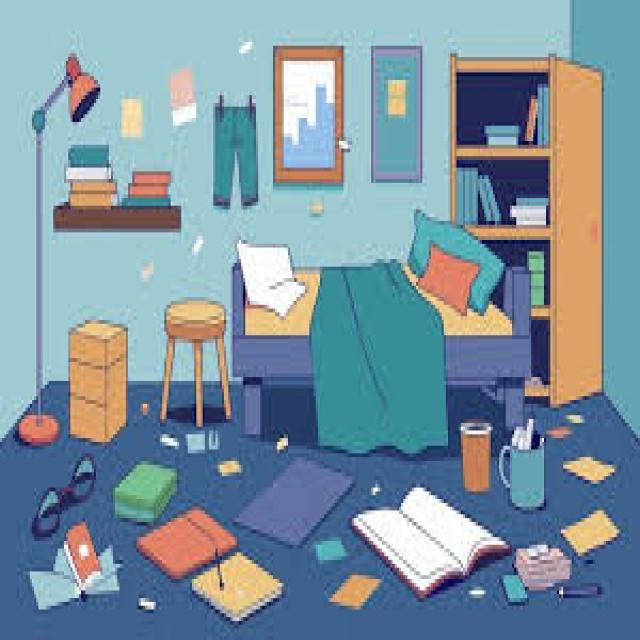box: (69, 320, 127, 441)
